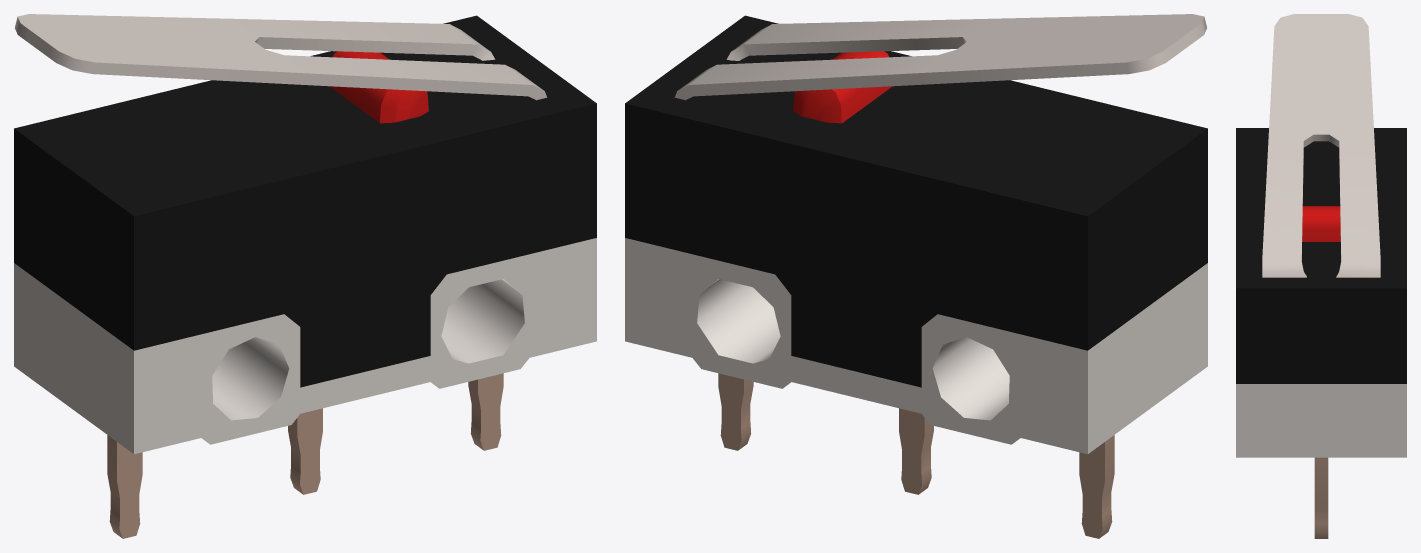
Rendered from tiaihua_micro_switch_animated.fbx.
3 renders of one model, left to right at view 1: azimuth 30°, elevation 25°; view 2: azimuth 150°, elevation 25°; view 3: azimuth 270°, elevation 25°, orthographic. The views are drawn at different scales.
Parts seen in each view (by area): view 1: switch body, switch lever, switch red; view 2: switch body, switch lever, switch red; view 3: switch body, switch lever, switch red.
Boxes of the visible parts, <box> form: switch body: <box>14,15,596,538</box>; switch lever: <box>15,14,547,100</box>; switch red: <box>329,51,428,123</box>; switch body: <box>625,15,1207,538</box>; switch lever: <box>674,14,1206,100</box>; switch red: <box>793,51,892,123</box>; switch body: <box>1236,128,1406,538</box>; switch lever: <box>1262,14,1380,277</box>; switch red: <box>1302,206,1340,241</box>.
Bounding box in the file's own units: 5.54 × 5.48 × 2.3.
